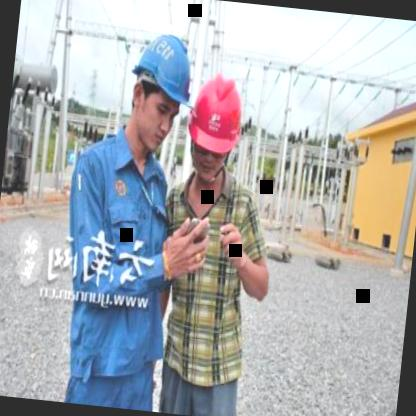helmet: (117, 18, 200, 158), (183, 63, 254, 195)
